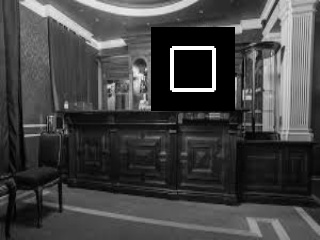square: (151, 27, 235, 111)
